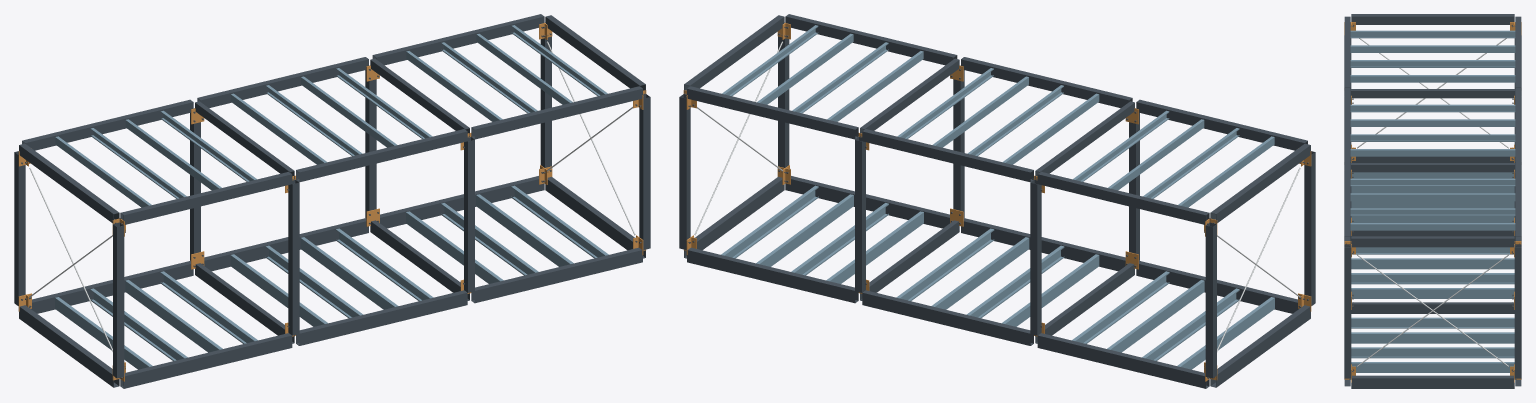
File: structure.glb
3 renders of one model, left to right at view 1: azimuth 30°, elevation 25°; view 2: azimuth 150°, elevation 25°; view 3: azimuth 270°, elevation 25°, orthographic. The views are drawn at different scales.
Visible parts, largest first — view 1: MW900_FLOOR_SIDE_B2_S1, MW900_FLOOR_SIDE_B3_S1, MW900_FLOOR_SIDE_B1_S1, MW900_ROOF_SIDE_B2_S1, MW900_ROOF_SIDE_B3_S1, MW900_ROOF_SIDE_B1_S1, MW900_FLOOR_SIDE_B2_S2, MW900_ROOF_SIDE_B3_S2, MW900_ROOF_SIDE_B2_S2, MW900_ROOF_SIDE_B1_S2, MW900_FLOOR_SIDE_B3_S2, MW900_FLOOR_SIDE_B1_S2 (+40 smaller); view 2: MW900_FLOOR_SIDE_B2_S2, MW900_FLOOR_SIDE_B3_S2, MW900_FLOOR_SIDE_B1_S2, MW900_ROOF_SIDE_B2_S2, MW900_ROOF_SIDE_B3_S2, MW900_ROOF_SIDE_B1_S2, MW900_FLOOR_SIDE_B2_S1, MW900_ROOF_SIDE_B3_S1, MW900_ROOF_SIDE_B2_S1, MW900_ROOF_SIDE_B1_S1, MW900_FLOOR_SIDE_B3_S1, MW900_FLOOR_SIDE_B1_S1 (+40 smaller); view 3: MW900_FLOOR_END_E2, MW900_ROOF_END_E2, MW900_FLOOR_JOIST_06, MW900_FLOOR_JOIST_07, MW900_FLOOR_JOIST_09, MW900_FLOOR_JOIST_10, MW900_FLOOR_JOIST_11, MW900_FLOOR_PORTAL_X3, MW900_ROOF_END_E1, MW900_FLOOR_JOIST_08, MW900_FLOOR_JOIST_12, MW900_ROOF_PORTAL_X2 (+32 smaller).
Part boxes in pixels (x1,y1,x2,y2): MW900_FLOOR_SIDE_B2_S1: [296, 290, 467, 345]; MW900_FLOOR_SIDE_B3_S1: [471, 247, 642, 303]; MW900_FLOOR_SIDE_B1_S1: [120, 333, 292, 388]; MW900_ROOF_SIDE_B2_S1: [296, 129, 467, 182]; MW900_ROOF_SIDE_B3_S1: [471, 86, 642, 139]; MW900_ROOF_SIDE_B1_S1: [120, 171, 292, 224]; MW900_FLOOR_SIDE_B2_S2: [204, 218, 368, 271]; MW900_ROOF_SIDE_B3_S2: [372, 14, 544, 65]; MW900_ROOF_SIDE_B2_S2: [197, 57, 368, 108]; MW900_ROOF_SIDE_B1_S2: [22, 99, 193, 150]; MW900_FLOOR_SIDE_B3_S2: [380, 176, 544, 228]; MW900_FLOOR_SIDE_B1_S2: [31, 261, 193, 313]; MW900_FLOOR_SIDE_B2_S2: [862, 290, 1033, 345]; MW900_FLOOR_SIDE_B3_S2: [687, 247, 858, 303]; MW900_FLOOR_SIDE_B1_S2: [1037, 333, 1209, 388]; MW900_ROOF_SIDE_B2_S2: [862, 129, 1033, 182]; MW900_ROOF_SIDE_B3_S2: [687, 86, 858, 139]; MW900_ROOF_SIDE_B1_S2: [1037, 171, 1209, 224]; MW900_FLOOR_SIDE_B2_S1: [961, 218, 1125, 271]; MW900_ROOF_SIDE_B3_S1: [785, 14, 957, 65]; MW900_ROOF_SIDE_B2_S1: [961, 57, 1132, 108]; MW900_ROOF_SIDE_B1_S1: [1136, 99, 1307, 150]; MW900_FLOOR_SIDE_B3_S1: [785, 176, 949, 228]; MW900_FLOOR_SIDE_B1_S1: [1136, 261, 1298, 313]; MW900_FLOOR_END_E2: [1351, 375, 1514, 388]; MW900_ROOF_END_E2: [1351, 236, 1514, 247]; MW900_FLOOR_JOIST_06: [1351, 258, 1514, 269]; MW900_FLOOR_JOIST_07: [1351, 273, 1514, 284]; MW900_FLOOR_JOIST_09: [1351, 317, 1514, 328]; MW900_FLOOR_JOIST_10: [1351, 332, 1514, 343]; MW900_FLOOR_JOIST_11: [1351, 347, 1514, 358]; MW900_FLOOR_PORTAL_X3: [1351, 302, 1514, 313]; MW900_ROOF_END_E1: [1351, 14, 1514, 24]; MW900_FLOOR_JOIST_08: [1351, 288, 1514, 298]; MW900_FLOOR_JOIST_12: [1351, 362, 1514, 372]; MW900_ROOF_PORTAL_X2: [1350, 89, 1515, 98].
Bounding box in the file's own units: 9 × 2.8 × 3.
